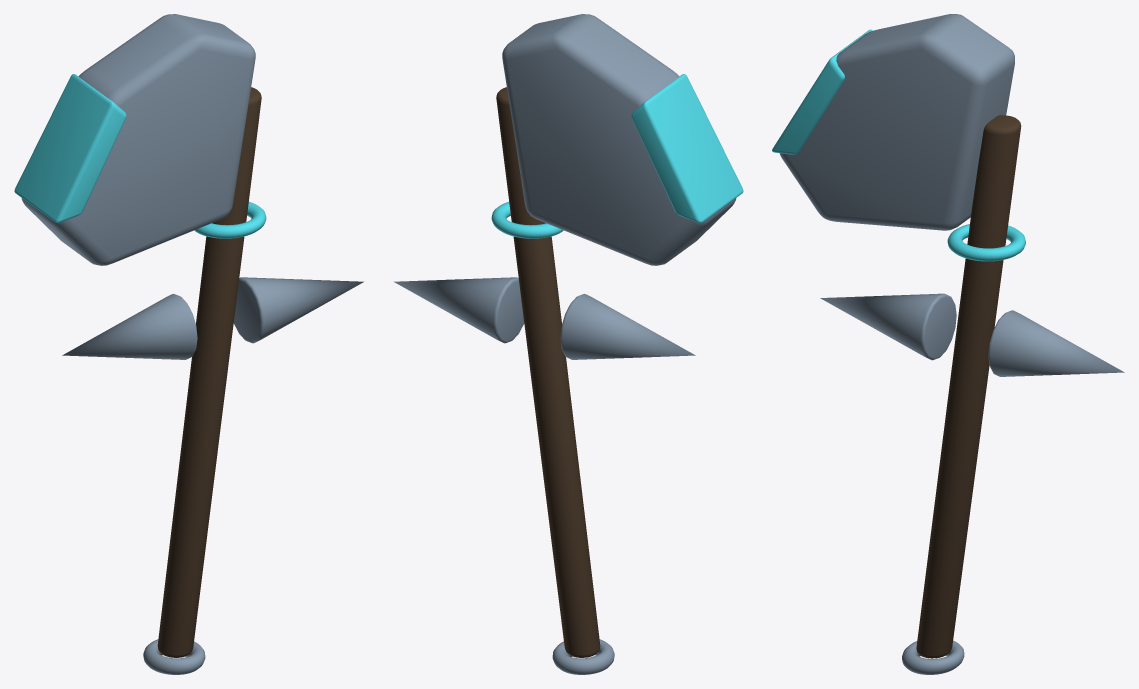
File: axe_v7.glb
3 views of the same model, side by side, from view 1: azimuth 30°, elevation 25°; view 2: azimuth 150°, elevation 25°; view 3: azimuth 330°, elevation 25° (orthographic).
Visible parts, largest first — view 1: AXE_HEAD_PRIMARY, HAFT_SECONDARY, AXE_EDGE_ACCENT, BRUTAL_SPIKE_PRIMARY, BRUTAL_SPIKE_PRIMARY.001, AXE_POMMEL_PRIMARY, AXE_COLLAR_ACCENT; view 2: AXE_HEAD_PRIMARY, HAFT_SECONDARY, AXE_EDGE_ACCENT, BRUTAL_SPIKE_PRIMARY, BRUTAL_SPIKE_PRIMARY.001, AXE_POMMEL_PRIMARY, AXE_COLLAR_ACCENT; view 3: AXE_HEAD_PRIMARY, HAFT_SECONDARY, BRUTAL_SPIKE_PRIMARY, BRUTAL_SPIKE_PRIMARY.001, AXE_EDGE_ACCENT, AXE_COLLAR_ACCENT, AXE_POMMEL_PRIMARY.
Boxes of the visible parts, left/top/right/bottom form: AXE_HEAD_PRIMARY: left=21, top=14, right=255, bottom=265; HAFT_SECONDARY: left=157, top=87, right=261, bottom=657; AXE_EDGE_ACCENT: left=14, top=74, right=126, bottom=222; BRUTAL_SPIKE_PRIMARY: left=62, top=294, right=197, bottom=359; BRUTAL_SPIKE_PRIMARY.001: left=233, top=277, right=363, bottom=343; AXE_POMMEL_PRIMARY: left=143, top=639, right=205, bottom=674; AXE_COLLAR_ACCENT: left=194, top=202, right=266, bottom=238; AXE_HEAD_PRIMARY: left=502, top=14, right=736, bottom=265; HAFT_SECONDARY: left=496, top=87, right=600, bottom=657; AXE_EDGE_ACCENT: left=631, top=74, right=743, bottom=222; BRUTAL_SPIKE_PRIMARY: left=560, top=294, right=695, bottom=359; BRUTAL_SPIKE_PRIMARY.001: left=394, top=277, right=524, bottom=343; AXE_POMMEL_PRIMARY: left=552, top=639, right=614, bottom=674; AXE_COLLAR_ACCENT: left=491, top=202, right=563, bottom=238; AXE_HEAD_PRIMARY: left=779, top=14, right=1014, bottom=230; HAFT_SECONDARY: left=916, top=115, right=1021, bottom=658; BRUTAL_SPIKE_PRIMARY: left=820, top=293, right=956, bottom=360; BRUTAL_SPIKE_PRIMARY.001: left=988, top=310, right=1124, bottom=376; AXE_EDGE_ACCENT: left=772, top=29, right=872, bottom=154; AXE_COLLAR_ACCENT: left=947, top=224, right=1025, bottom=261; AXE_POMMEL_PRIMARY: left=902, top=640, right=964, bottom=674.
Bounding box in the file's own units: 1.98 × 3.66 × 0.4696.
